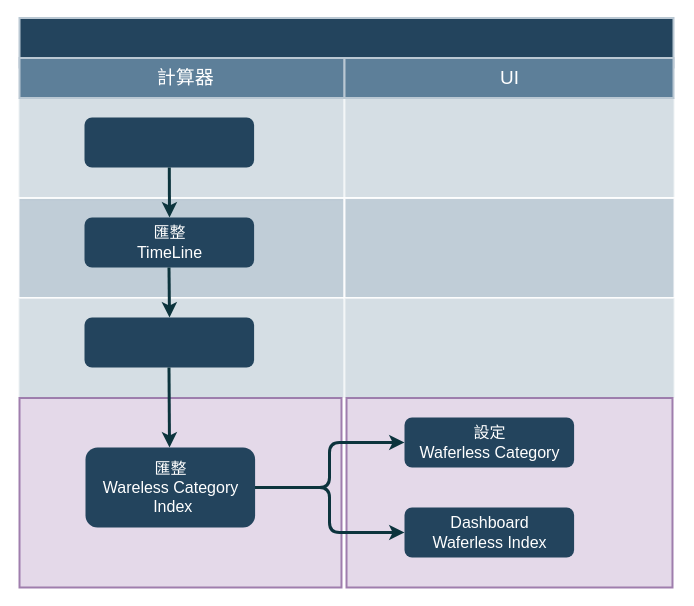
The diagram is 694 pixels wide and 606 high, and some of its shapes have lost their labels. Each missing label, with the centre of its shape:
"Get Data FDC / LMC / WTW" belongs at pixel 169 142.
"OEE - Waferless Index" belongs at pixel 346 42.
"匯整 Basic Index" belongs at pixel 169 342.
